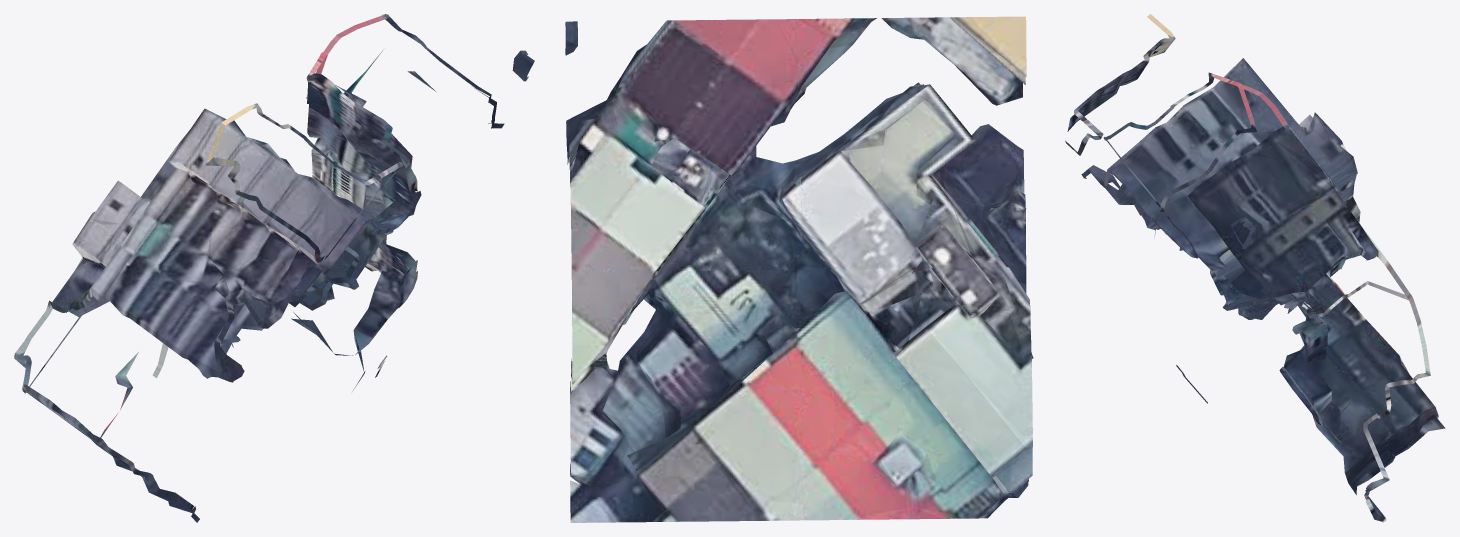
3 views of the same model, side by side, from view 1: azimuth 30°, elevation 25°; view 2: azimuth 150°, elevation 25°; view 3: azimuth 270°, elevation 25° (orthographic). The views are drawn at different scales.
Size of the model in its own units: 45.95 by 40.16 by 35.98.
1 material, 1 textured.
